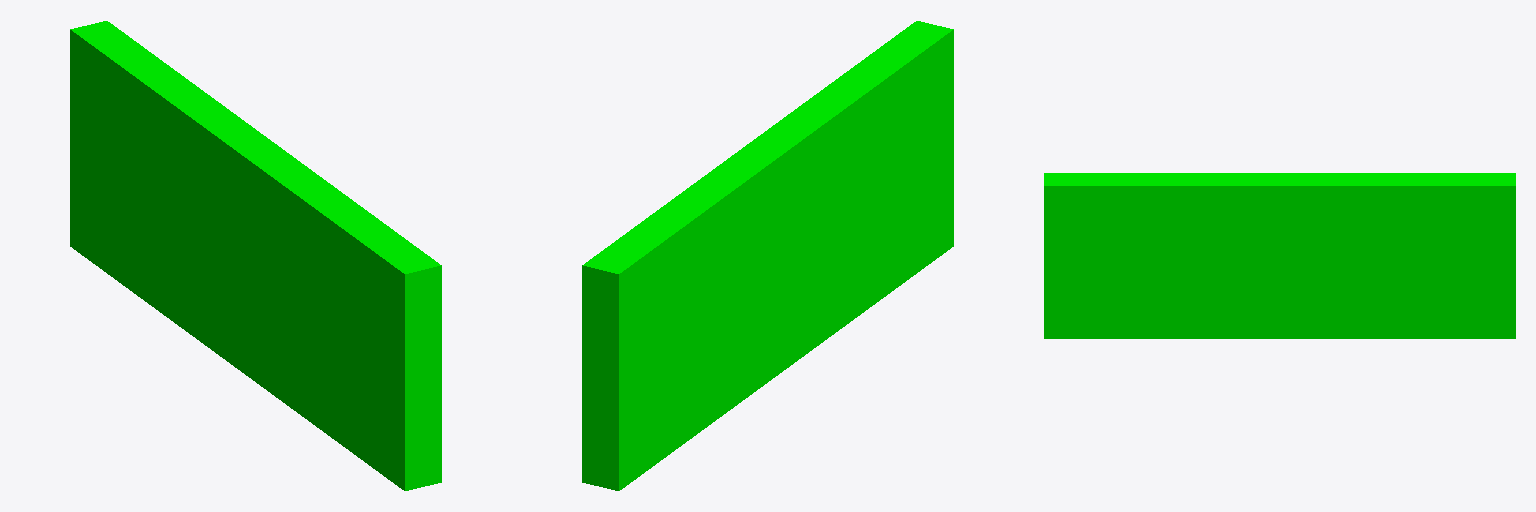
robot.urdf — trapwall:
<?xml version="0.0" ?>
<robot name="trapwall">
  <link name="wall">
  <contact>
      <lateral_friction value="1"/>
  </contact>
    <inertial>
      <origin rpy="0 0 0" xyz="0 0 0"/>
       <mass value=".0"/>
       <inertia ixx="0" ixy="0" ixz="0" iyy="0" iyz="0" izz="0"/>
    </inertial>
    <visual>
      <origin rpy="0 0 0" xyz="0 0 0"/>
      <geometry>
	<mesh filename="trapwall.obj" scale="1 1 1"/>
      </geometry>
       <material name="green">
        <color rgba="0 1 0 1"/>
      </material>
    </visual>
    <collision>
      <origin rpy="0 0 0" xyz="0 0 0"/>
      <geometry>
	<mesh filename="trapwall.obj" scale="1 1 1"/>
      </geometry>
    </collision>
  </link>
</robot>

--- What the picture shows (computed from the rendered views, not written in the file) ---
The picture shows the robot from 3 angles, left to right: view 1: azimuth 30°, elevation 25°; view 2: azimuth 150°, elevation 25°; view 3: azimuth 270°, elevation 25°; orthographic projection.
Model trapwall with 1 links and 0 joints (none), rooted at wall, posed all joints at 0.
Links seen in each view (by area): view 1: wall; view 2: wall; view 3: wall.
Boxes of the visible links, left/top/right/bottom form: wall: left=70, top=21, right=441, bottom=490; wall: left=582, top=21, right=953, bottom=490; wall: left=1044, top=173, right=1515, bottom=338.
Bounding box of the posed robot: 0.1 × 1.58 × 0.564 m (x, y, z).
1 mesh visuals loaded from 1 distinct referenced files (1 OBJ).